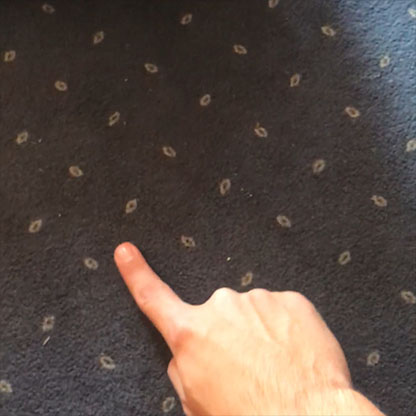fingertip: (106, 236, 148, 274)
